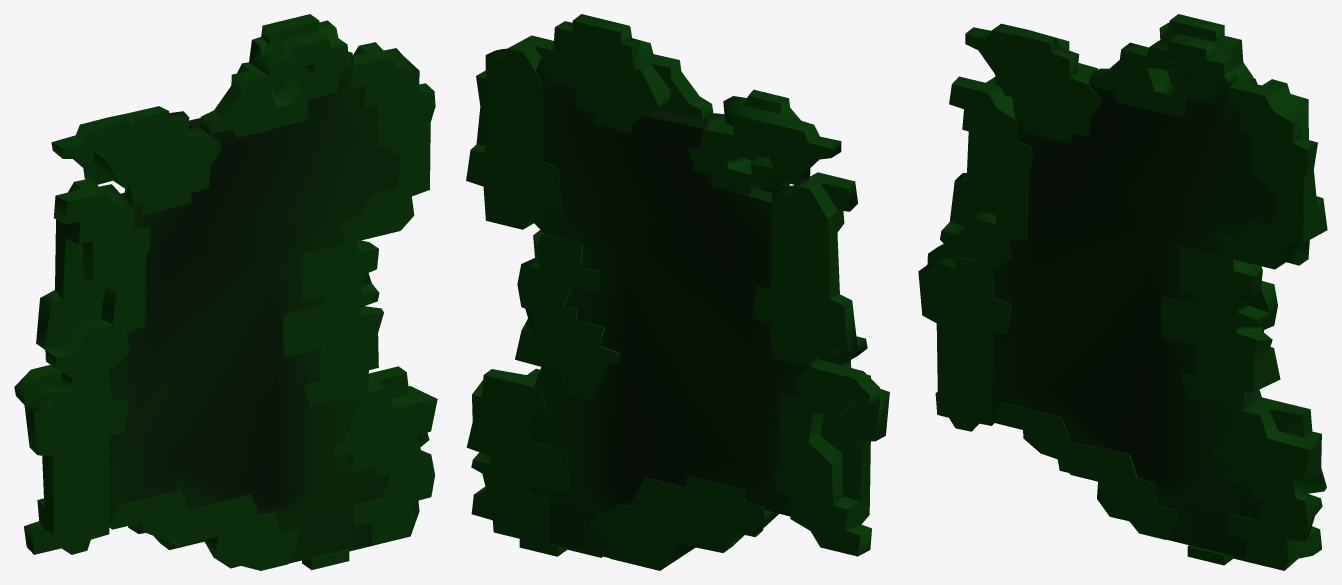
Rendered from DBK_Brick_Prop_Big_C.fbx.
3 renders of one model, left to right at view 1: azimuth 30°, elevation 25°; view 2: azimuth 150°, elevation 25°; view 3: azimuth 330°, elevation 25°, orthographic. The views are drawn at different scales.
Parts seen in each view (by area): view 1: DBK_Brick_Prop_Big_C; view 2: DBK_Brick_Prop_Big_C; view 3: DBK_Brick_Prop_Big_C.
Boxes of the visible parts, box(x1,y1,x2,y2) form: DBK_Brick_Prop_Big_C: box(14, 14, 437, 570); DBK_Brick_Prop_Big_C: box(466, 14, 889, 570); DBK_Brick_Prop_Big_C: box(918, 14, 1327, 570).
Size of the model in its own units: 241 by 304 by 20.57.
